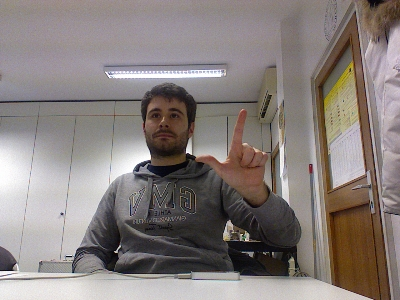枪: (193, 106, 267, 189)
